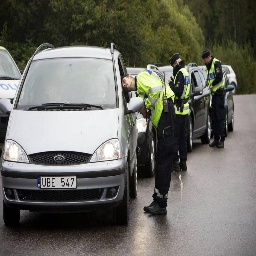sv_licence_plate: (38, 176, 78, 188)
